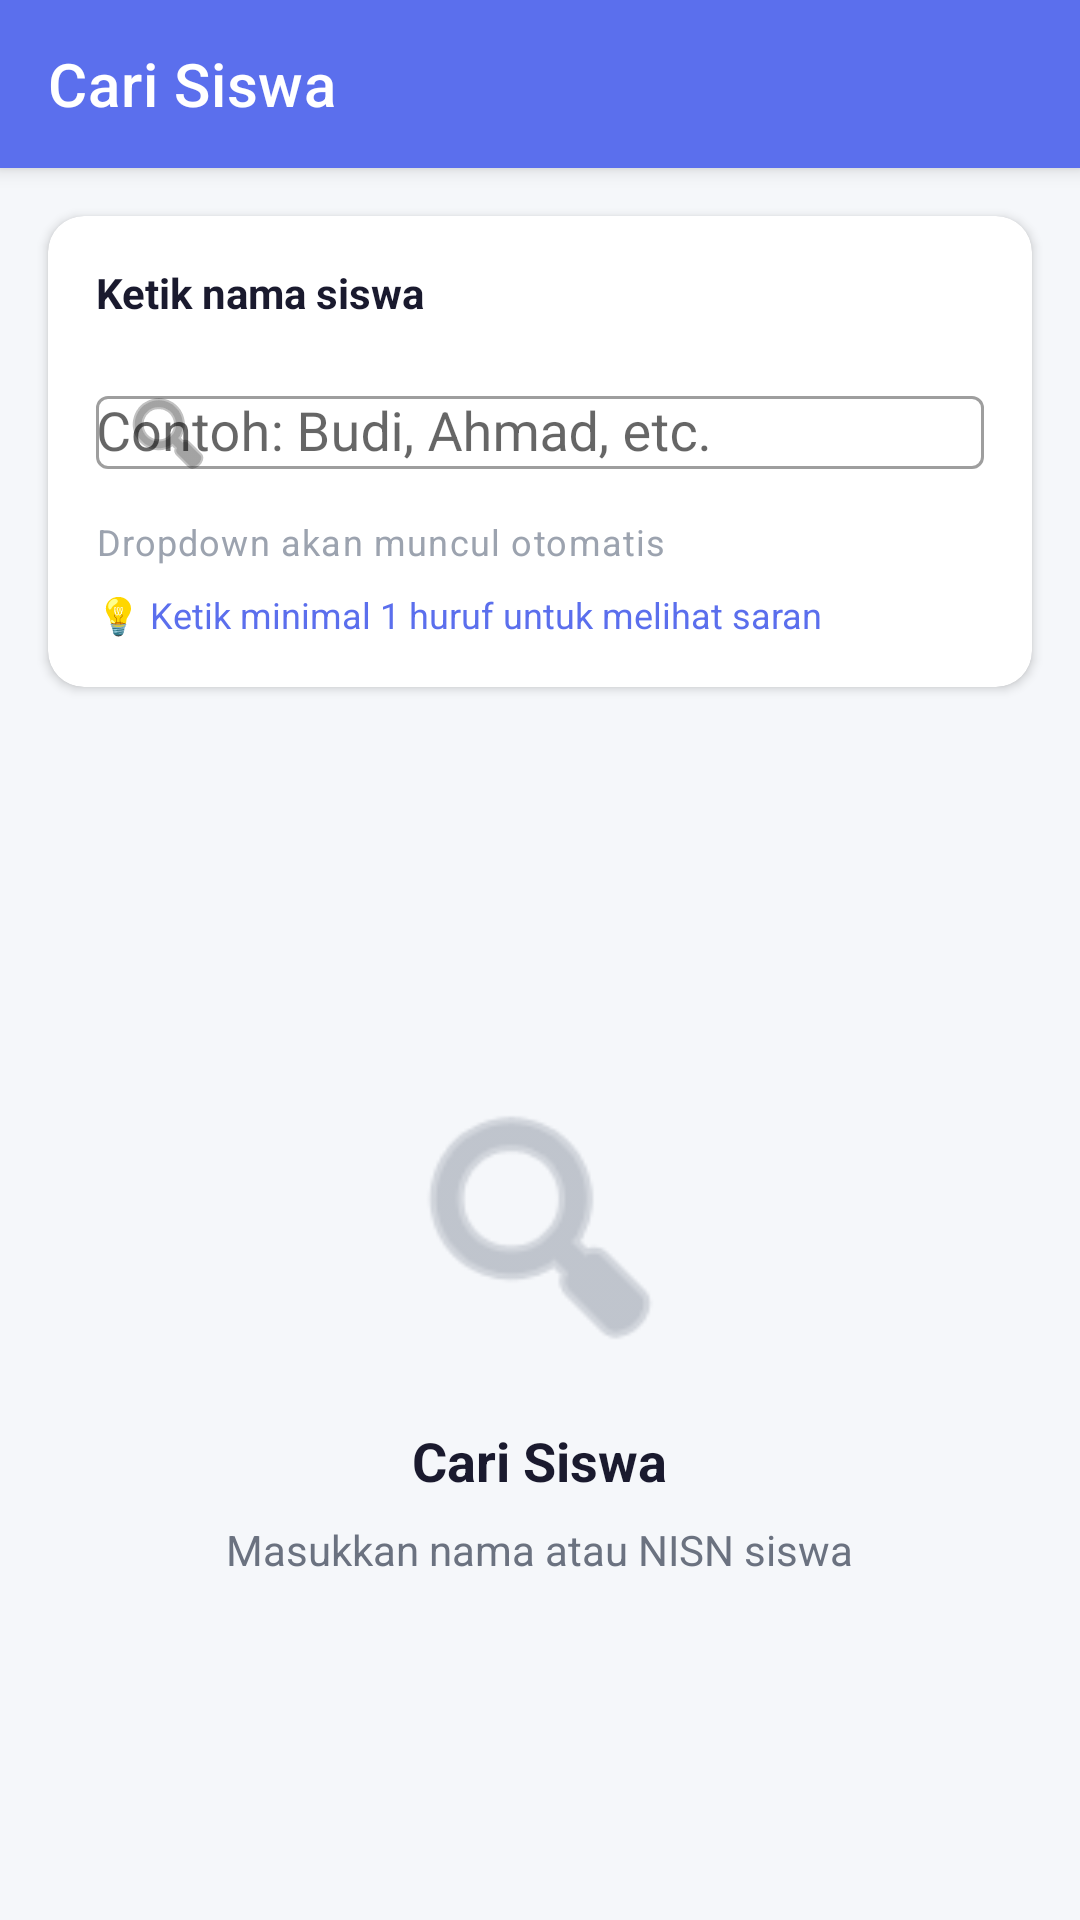

Where icons sit on this 1080 x 1920 app screen, as {"left": x1, "top": y1, "right": x2, "bottom": y2}:
Search: {"left": 431, "top": 1118, "right": 649, "bottom": 1337}
